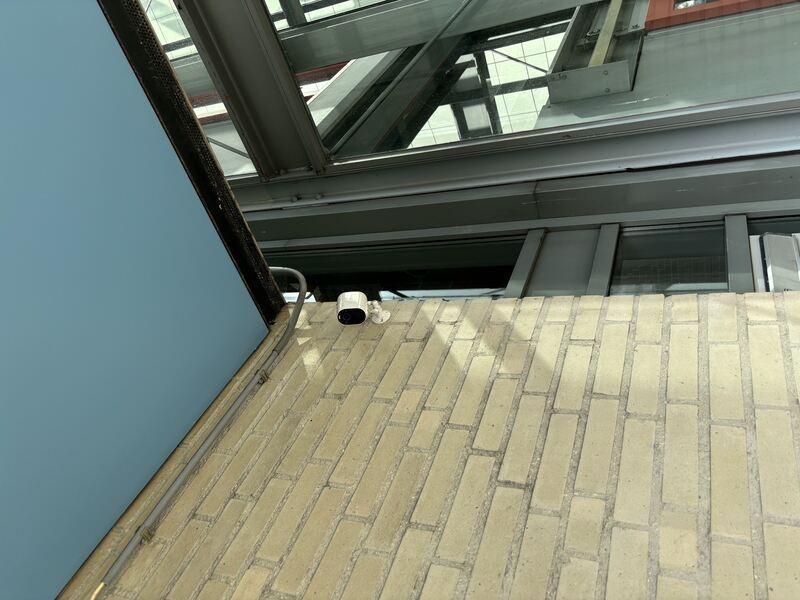bullet: (273, 329, 308, 385)
